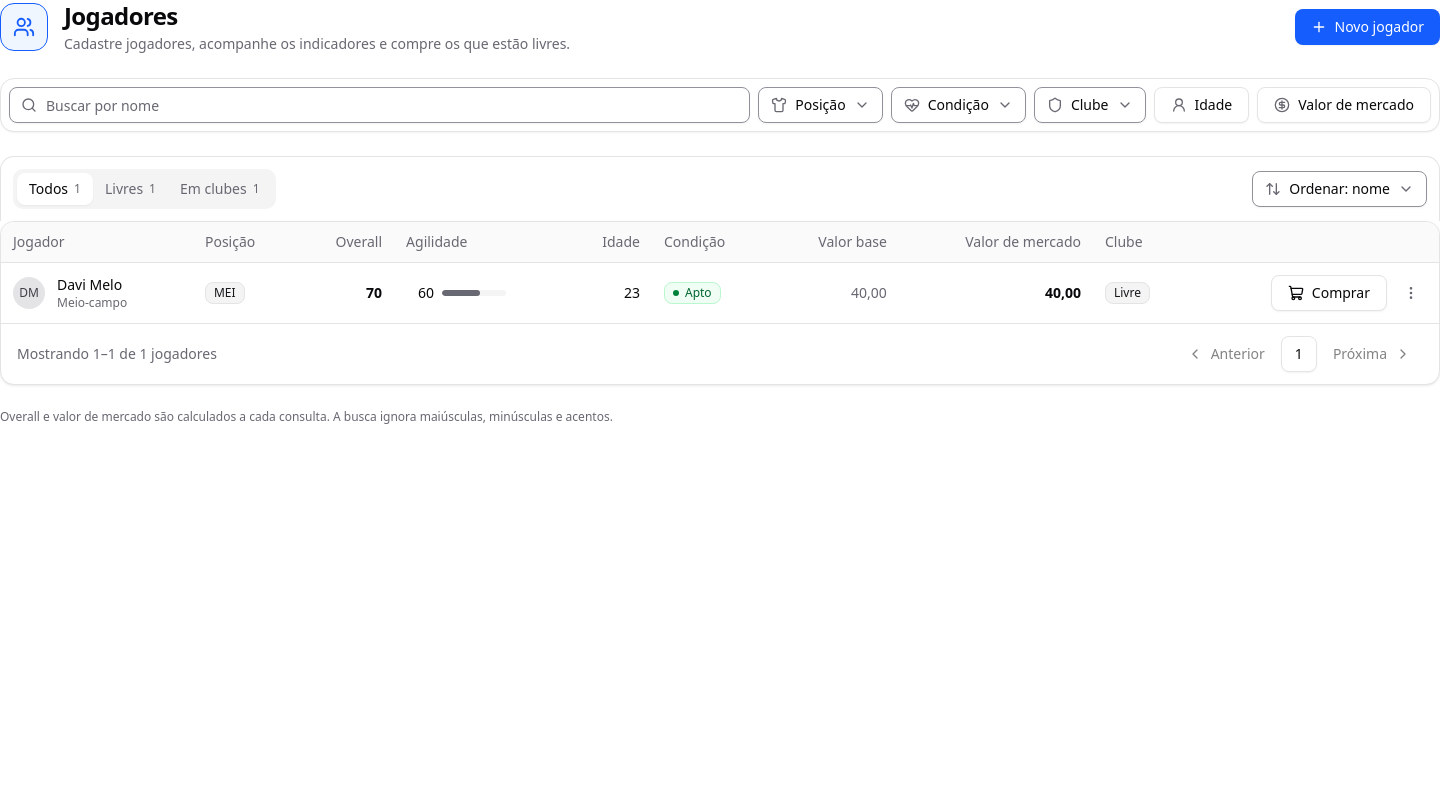
Test: edição de jogador › mostra o toast de sucesso depois de salvar
This screenshot has width=1440, height=810.
Press the mouse on the button named "Ações de Davi Melo" at (1411, 292), box [1395,276,1427,308]
Click the button named "Ações de Davi Melo" at (1411, 292), box [1395,276,1427,308]
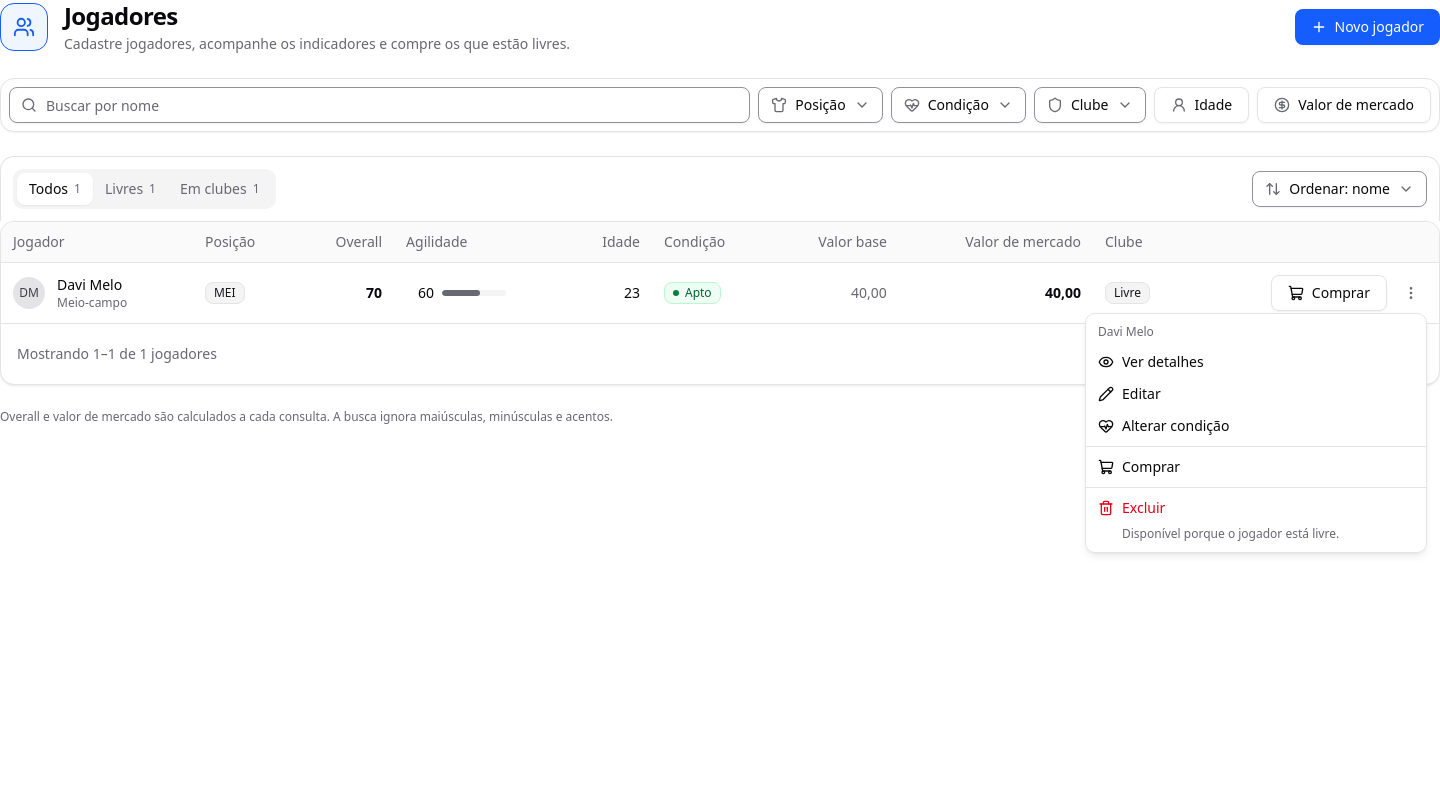
Click the menu item "Editar" at (1129, 394), box [1098,384,1161,403]
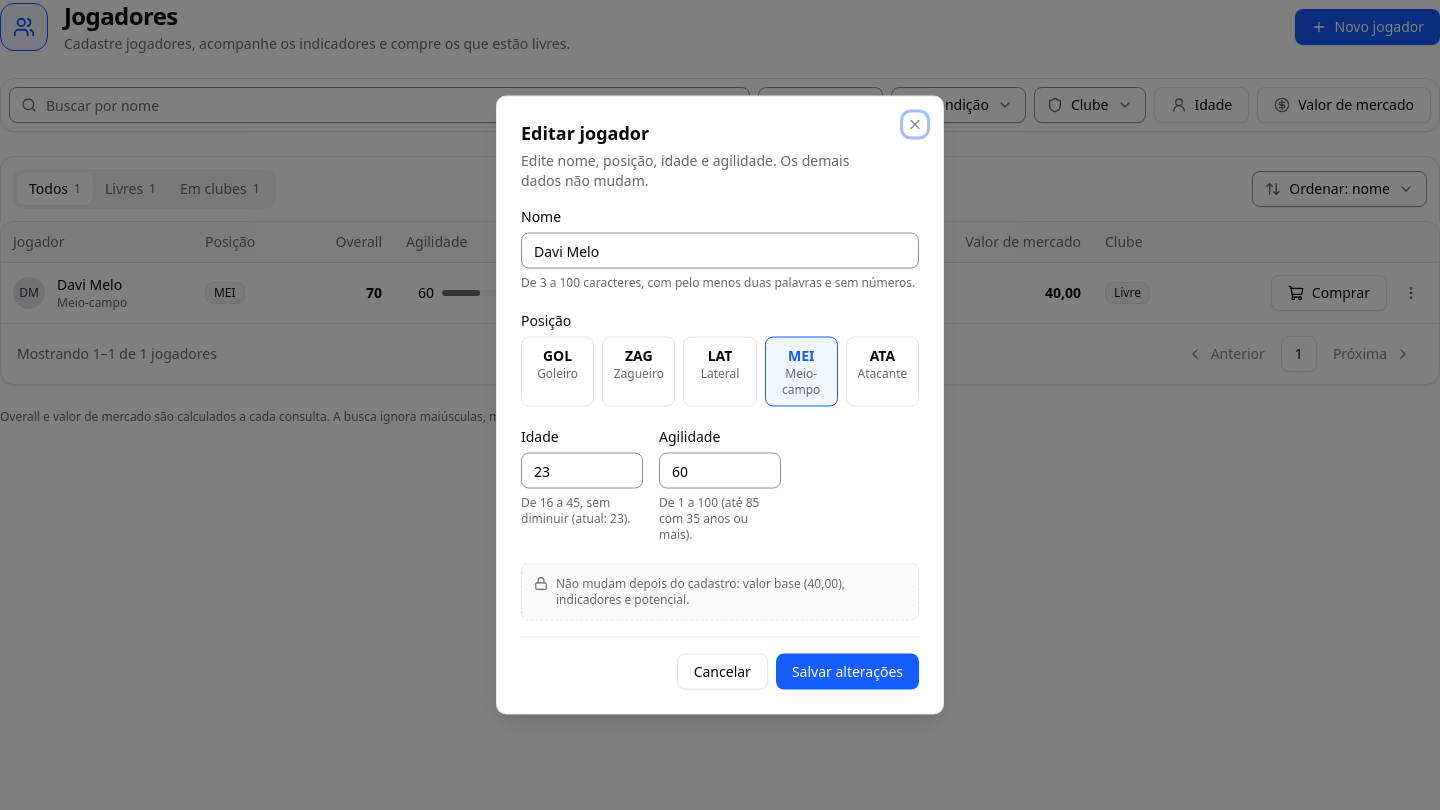
Replace the text in the field showing "Davi Melo" with "Davi Melo Filho" at (720, 250), box [521,232,919,268]
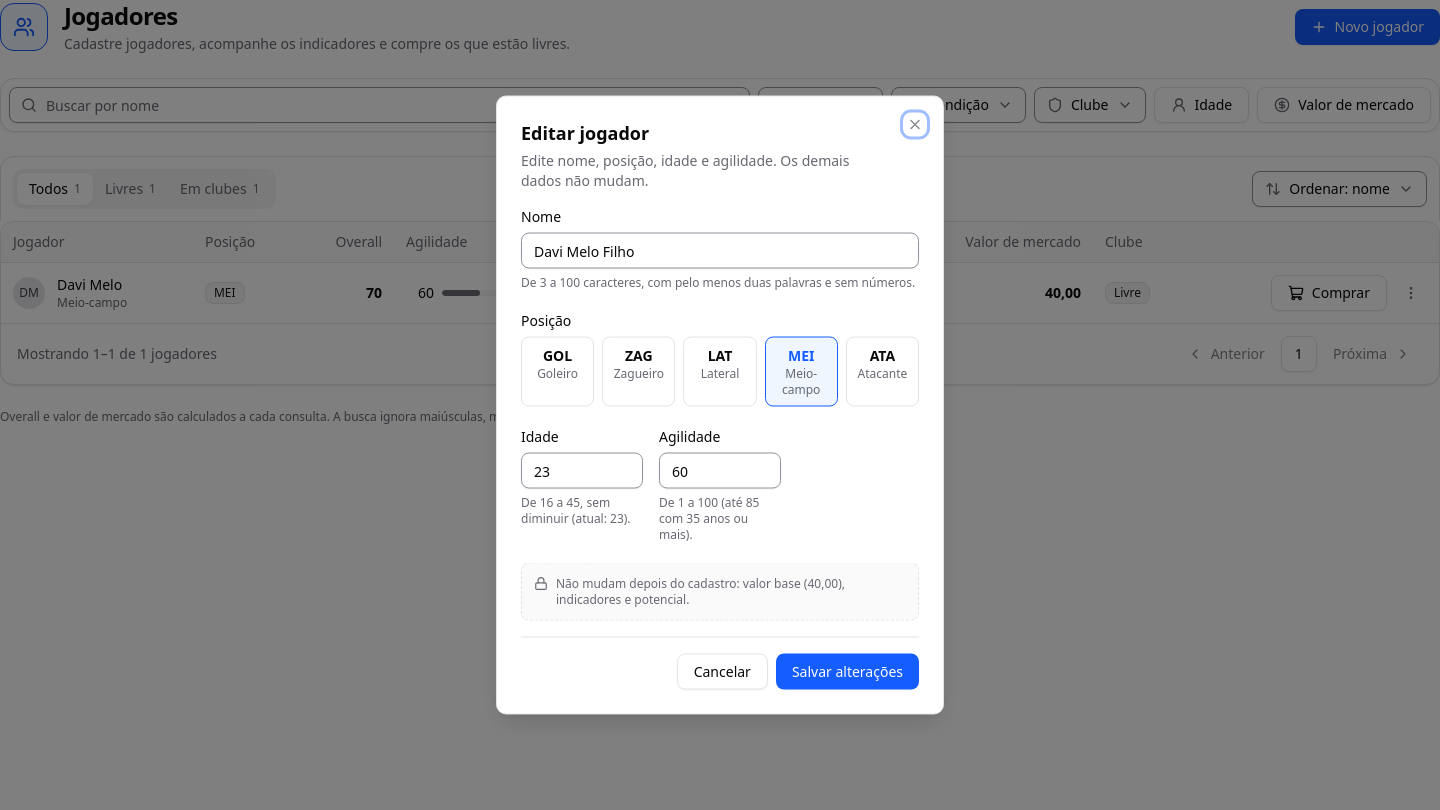
Click the button "Salvar alterações" at (847, 672), box [776,654,919,690]
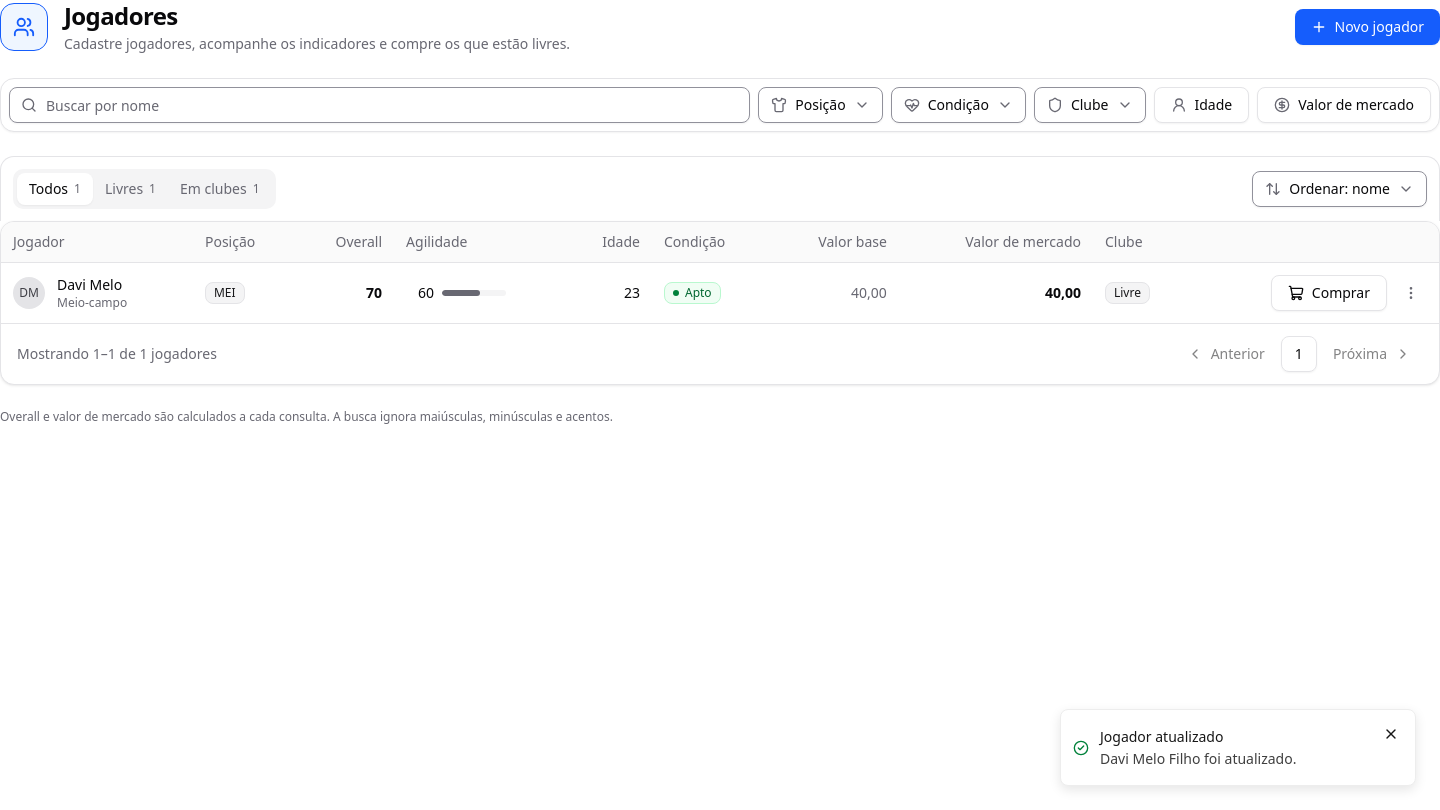
Now the text "Jogador atualizado" is shown, box [1100,727,1223,746]
